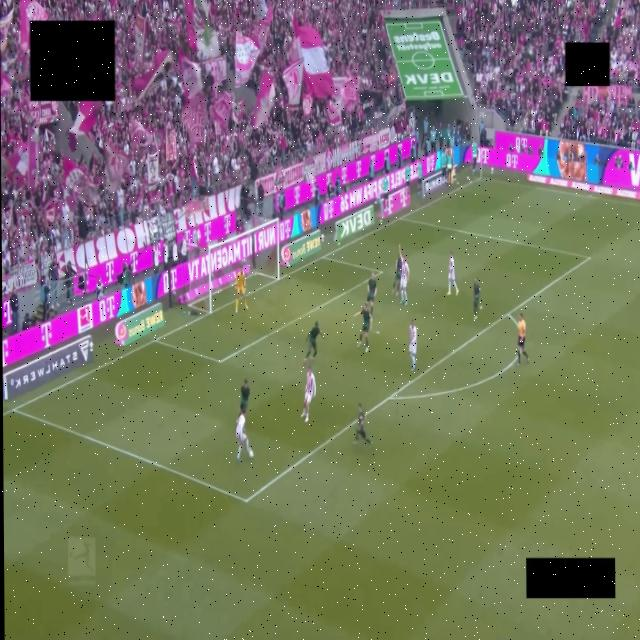ball: (249, 450, 253, 458)
player: (303, 321, 324, 364), (235, 410, 252, 461), (301, 368, 315, 422), (354, 403, 371, 445), (358, 304, 370, 352), (234, 270, 247, 312), (447, 252, 459, 295), (392, 246, 402, 296), (366, 272, 376, 317), (400, 260, 409, 305), (409, 320, 416, 370), (239, 379, 249, 412), (473, 278, 481, 319)
referee: (516, 313, 528, 365)
